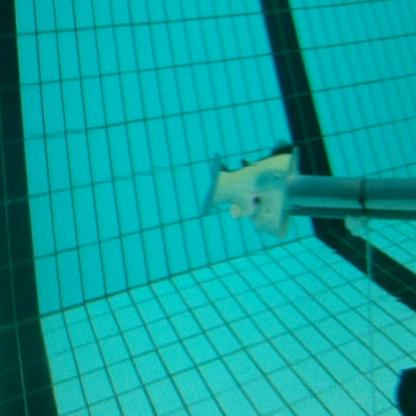tail: (198, 137, 298, 243)
